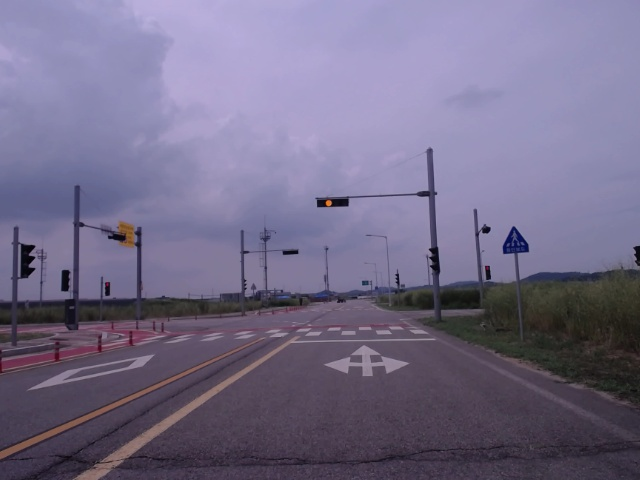orange_4: (315, 196, 351, 209)
